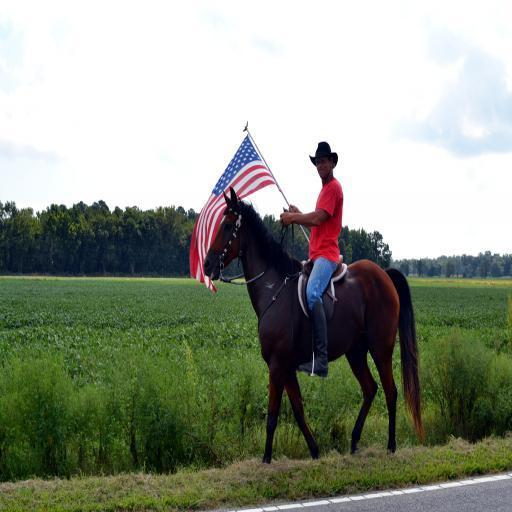horse: (202, 180, 426, 458)
